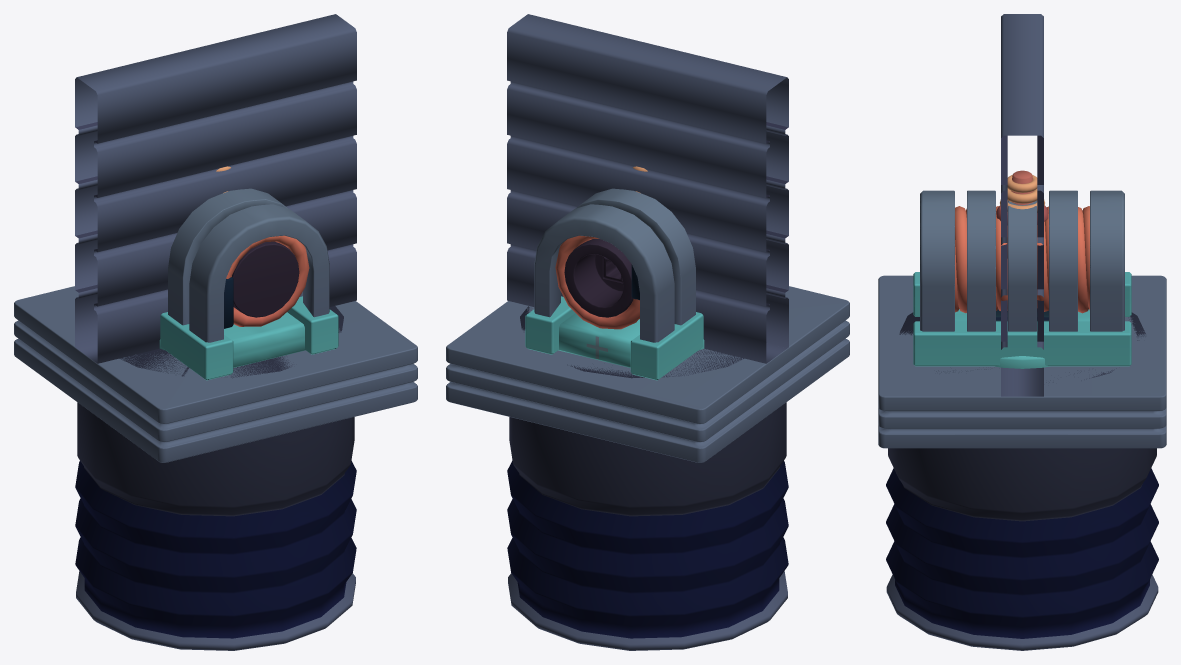
File: Components 1.fbx
3 renders of one model, left to right at view 1: azimuth 30°, elevation 25°; view 2: azimuth 150°, elevation 25°; view 3: azimuth 270°, elevation 25°, orthographic. The views are drawn at different scales.
Visible parts, largest first — view 1: Door, Dropper, Elevator, Engine; view 2: Door, Dropper, Elevator, Engine; view 3: Dropper, Engine, Elevator, Door, BatteryEngine, StandButton.
Boxes of the visible parts, box(x1,y1,x2,y2) form: Door: box(75, 14, 356, 363); Dropper: box(75, 306, 356, 650); Elevator: box(14, 286, 417, 462); Engine: box(160, 188, 338, 380); Door: box(507, 14, 788, 363); Dropper: box(507, 306, 788, 650); Elevator: box(446, 286, 849, 462); Engine: box(525, 188, 703, 380); Dropper: box(886, 312, 1158, 650); Engine: box(913, 190, 1131, 366); Elevator: box(878, 275, 1166, 448); Door: box(1001, 14, 1043, 396); BatteryEngine: box(996, 170, 1048, 311); StandButton: box(995, 356, 1049, 368).
Size of the model in its own units: 400 by 797 by 400.
